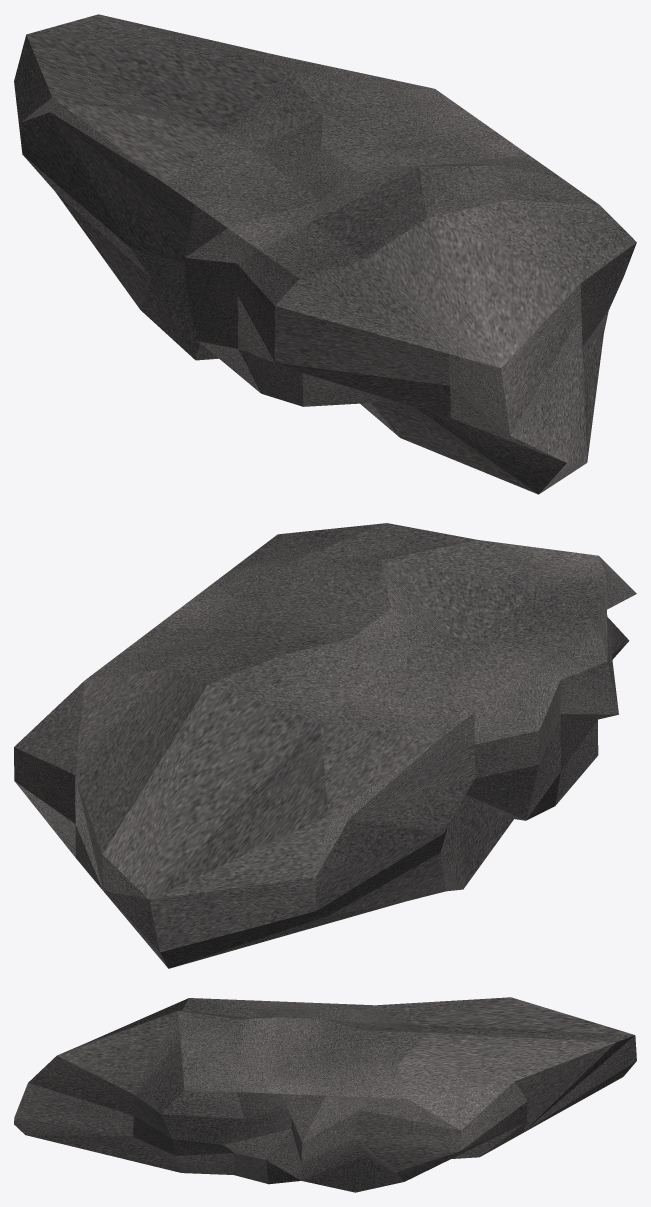
The model's file is RockParticl2.fbx.
3 views of the same model, one above another, from view 1: azimuth 30°, elevation 25°; view 2: azimuth 150°, elevation 25°; view 3: azimuth 270°, elevation 25° (orthographic). The views are drawn at different scales.
Parts seen in each view (by area): view 1: Cube.001; view 2: Cube.001; view 3: Cube.001.
Boxes of the visible parts, x1,y1,x2,y2 form: Cube.001: (14,14,636,494); Cube.001: (14,523,636,968); Cube.001: (14,997,636,1192).
Bounding box in the file's own units: 244 × 148 × 557.
